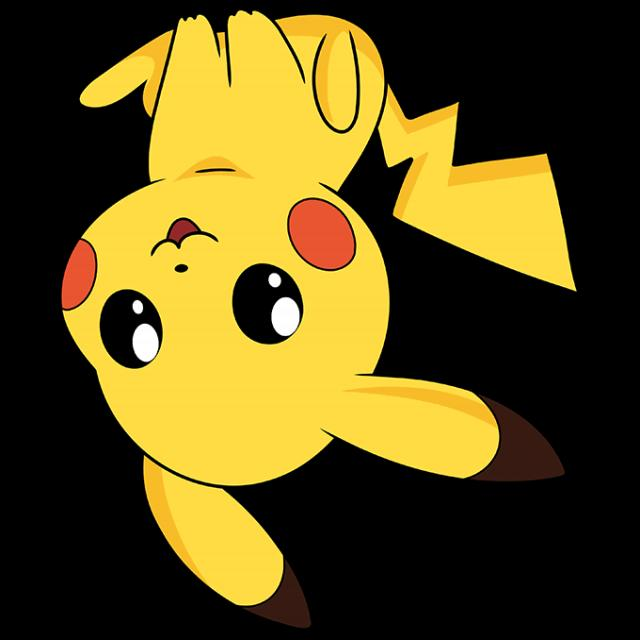Pikachu: (25, 0, 606, 623)
